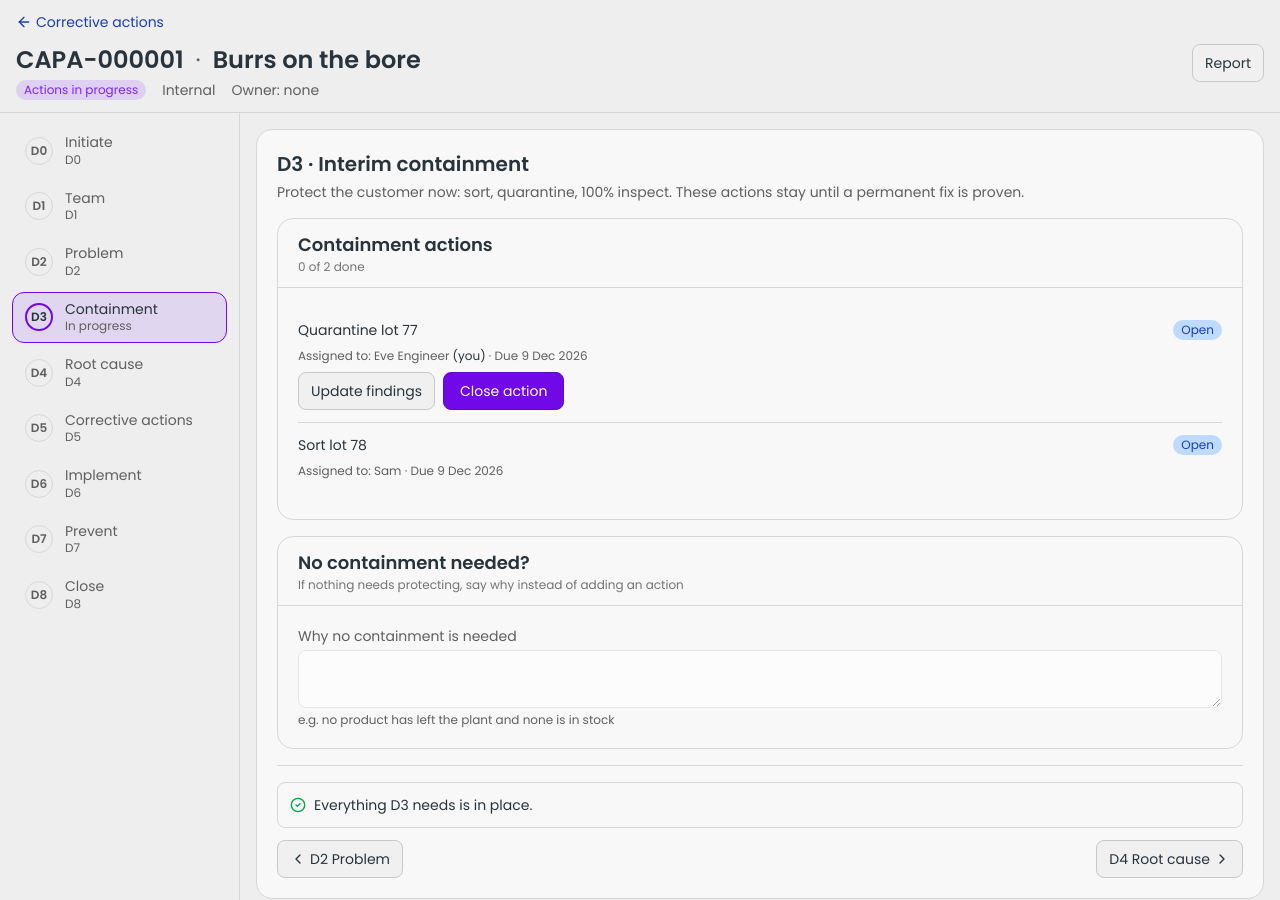
Test case: the actionee › with capa.read only, updates the findings and closes their own action, and cannot edit, add or cancel
Later steps or results of the test are not shown.
Expected: the text "(you)" is shown, [449,347,486,364]
Step 1. Click the button with aria-label "Update findings: Quarantine lot 77" → [366, 391], box [298,372,435,410]
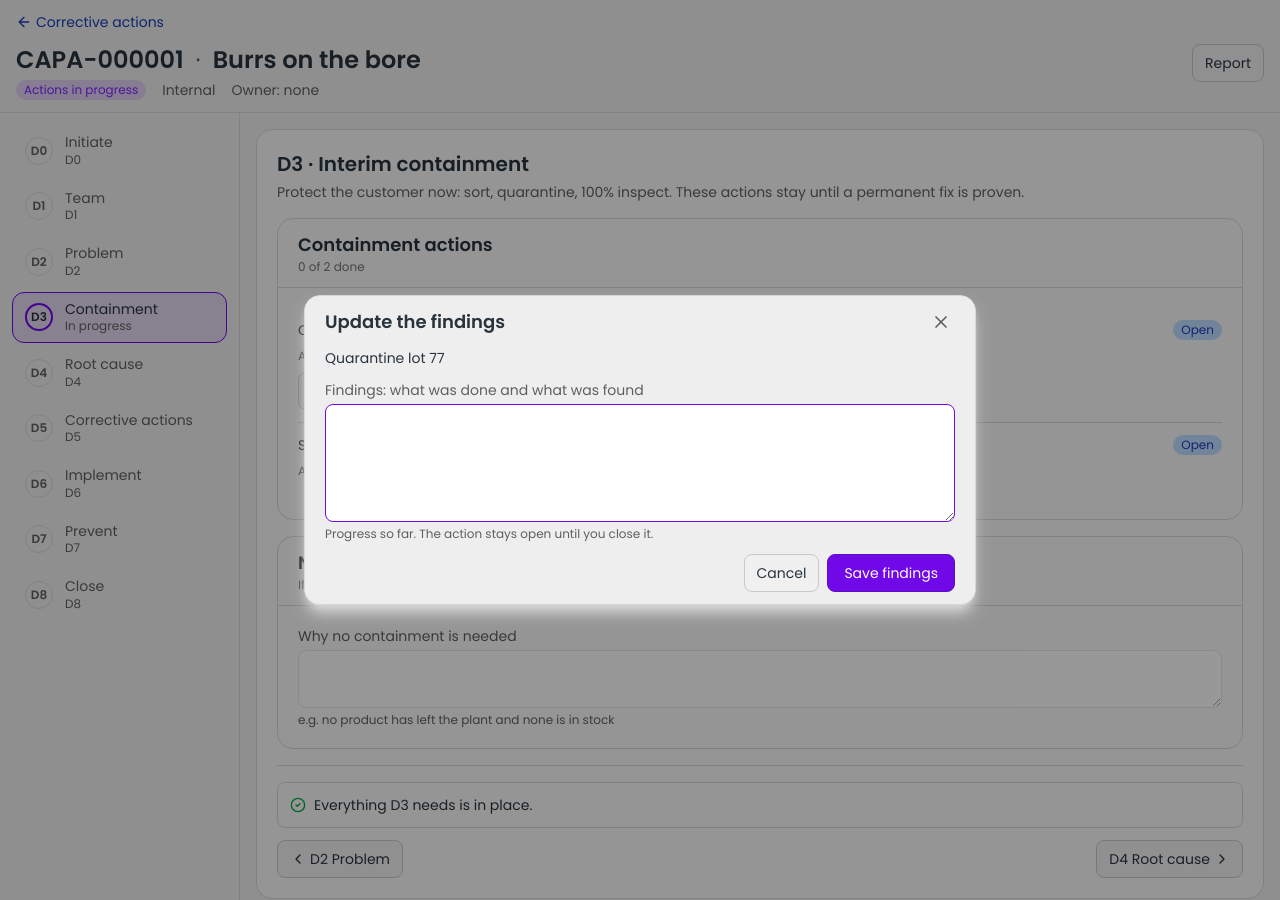
Step 2. Type "60 of 120 quarantined" into the text box labelled "Findings: what was done and what was found" → [640, 463], box [325,404,955,522]
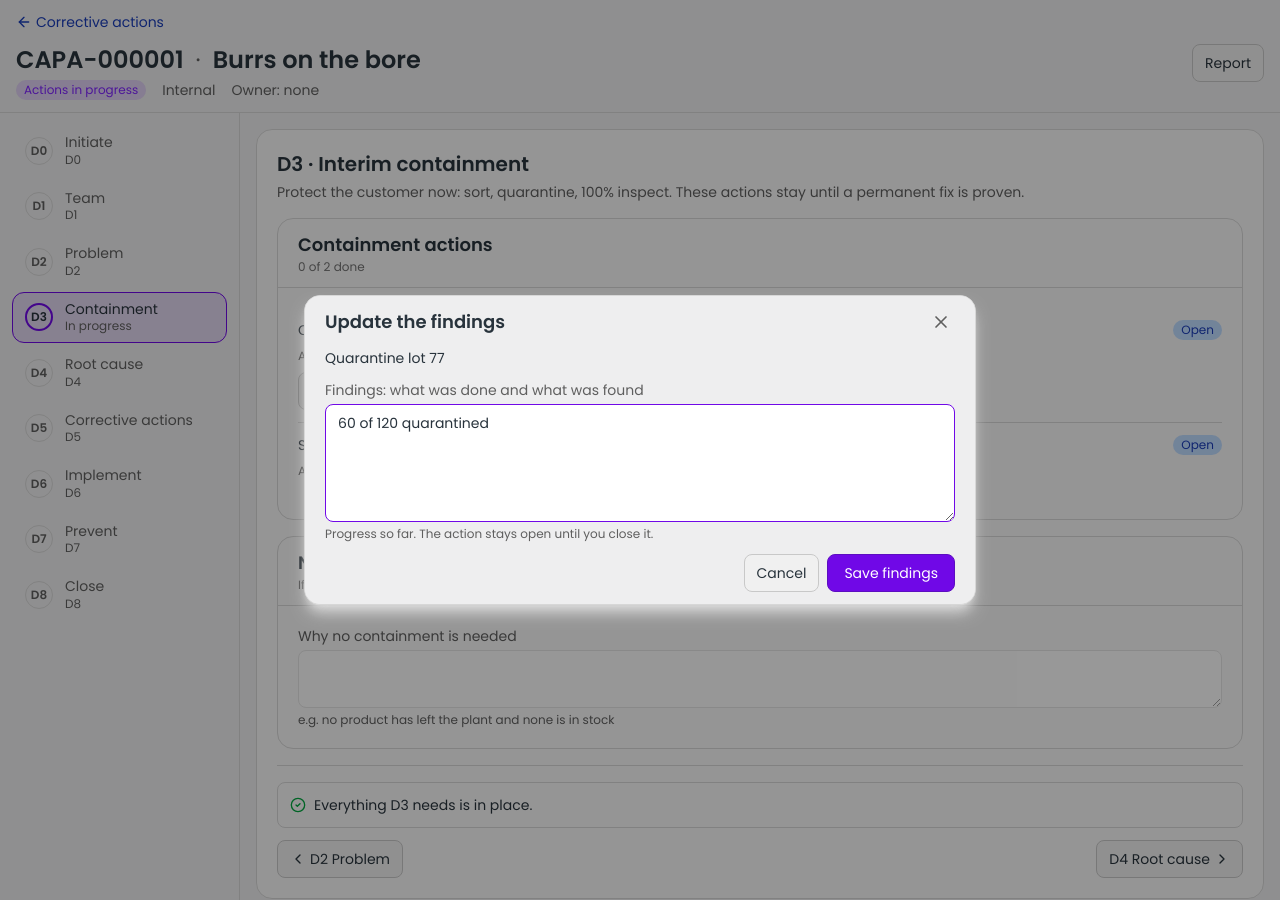
Step 3. Click the button "Save findings" → [891, 573], box [827,554,955,592]
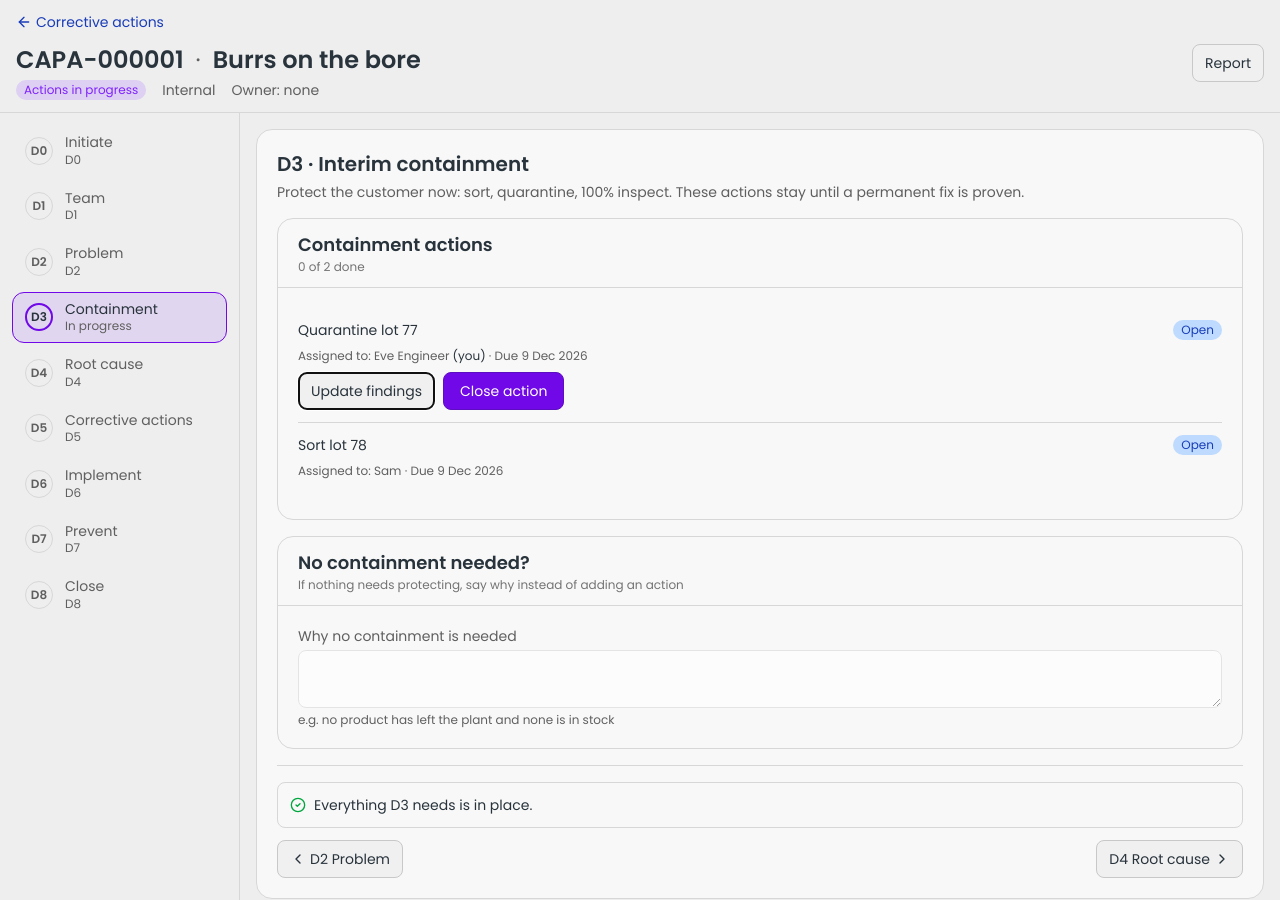
Step 4. Click the button with aria-label "Close action: Quarantine lot 77" → [504, 391], box [443,372,564,410]
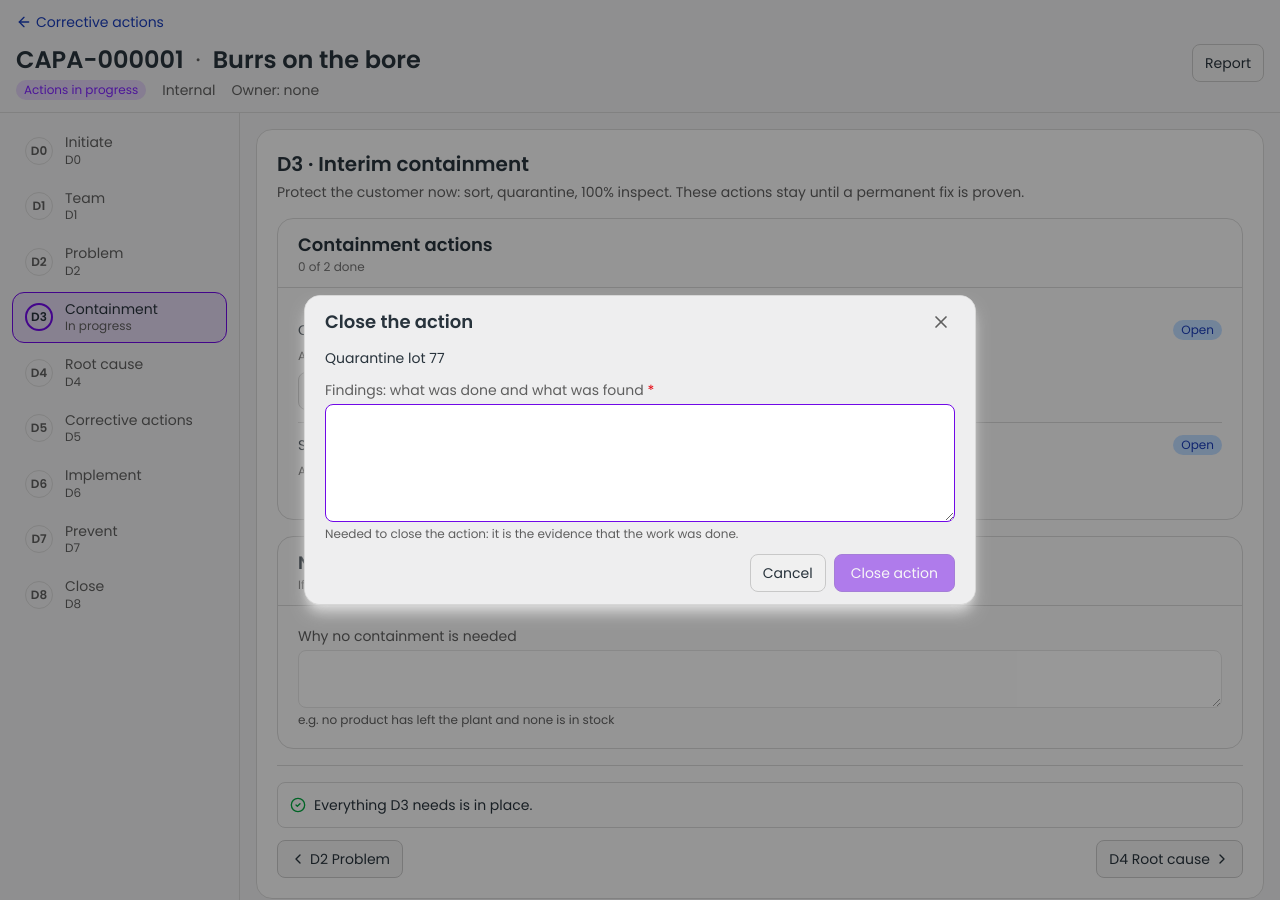
Expected: the button "Close action" is disabled, [834,554,955,592]
